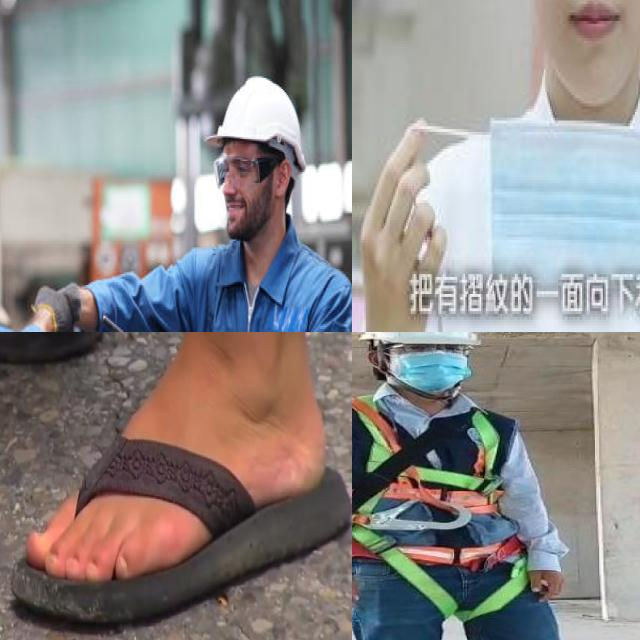No_Ear-Protection: (360, 343, 385, 376), (273, 161, 292, 198)
Sandals: (0, 332, 352, 640)
face_mask: (395, 351, 470, 394)
face_nomask: (521, 0, 640, 103), (223, 174, 272, 241)
glasses: (214, 155, 280, 186)
hand_glove: (34, 284, 82, 332)
hand_noglove: (353, 117, 455, 332), (524, 546, 574, 606)
head_helmet: (205, 78, 305, 178)
person: (355, 0, 640, 332), (352, 332, 625, 640)
